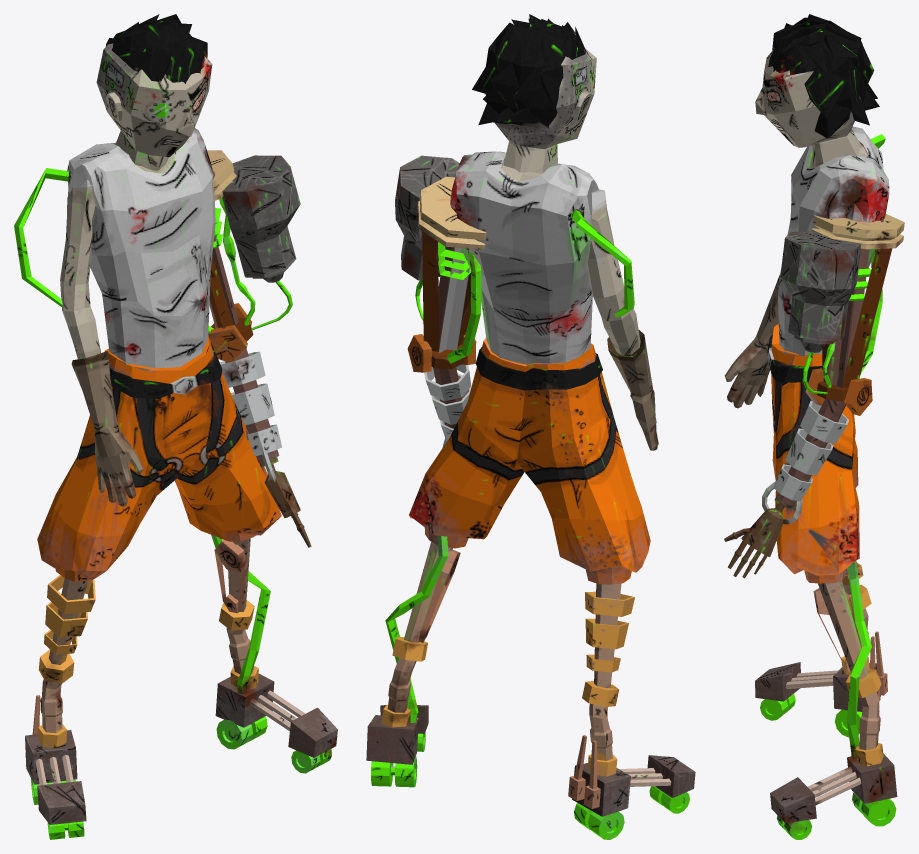
File: CyborgFINALAnimation_000041.obj
3 renders of one model, left to right at view 1: azimuth 30°, elevation 25°; view 2: azimuth 150°, elevation 25°; view 3: azimuth 270°, elevation 25°, orthographic. The views are drawn at different scales.
Parts seen in each view (by area): view 1: CyborgMesh_Cube.002; view 2: CyborgMesh_Cube.002; view 3: CyborgMesh_Cube.002.
Boxes of the visible parts, x1,y1,x2,y2 form: CyborgMesh_Cube.002: (14, 14, 337, 839); CyborgMesh_Cube.002: (366, 14, 695, 839); CyborgMesh_Cube.002: (724, 14, 904, 839).
Bounding box in the file's own units: 3.85 × 9.66 × 2.11.
